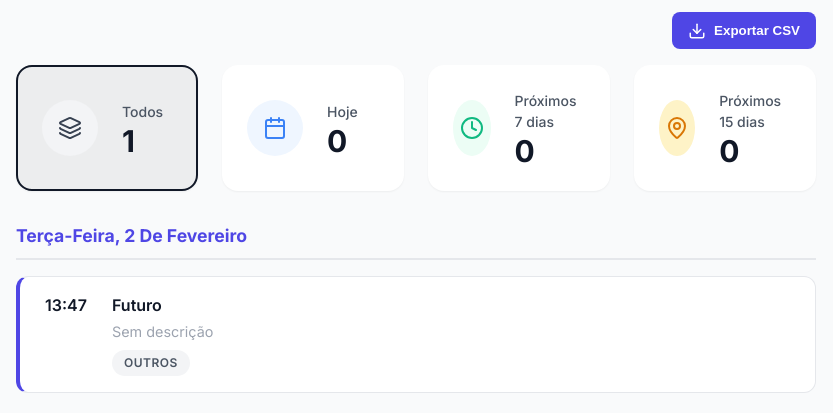
Test case: AgendaView Component › deve exibir mensagem de vazio e limpar filtros
Click the heading "Hoje" at x=342, y=111, box [327,101,358,122]
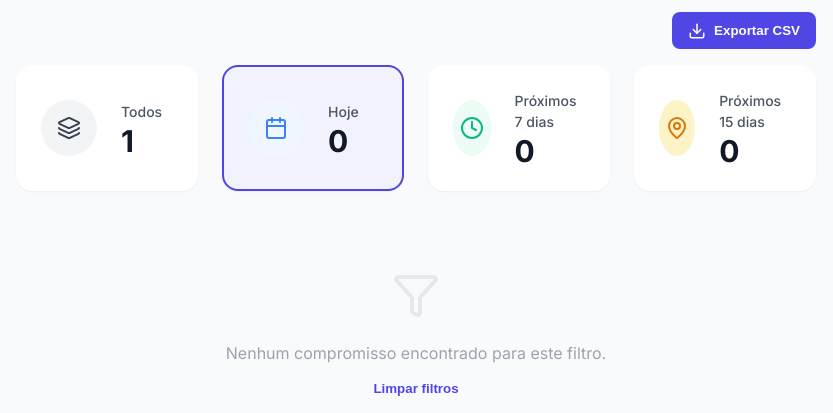
Expected: the text "Nenhum compromisso encontrado para este filtro." is shown, [226,343,606,363]
// Click Clear
Click the button "Limpar filtros" at x=416, y=389, box [373,381,459,396]
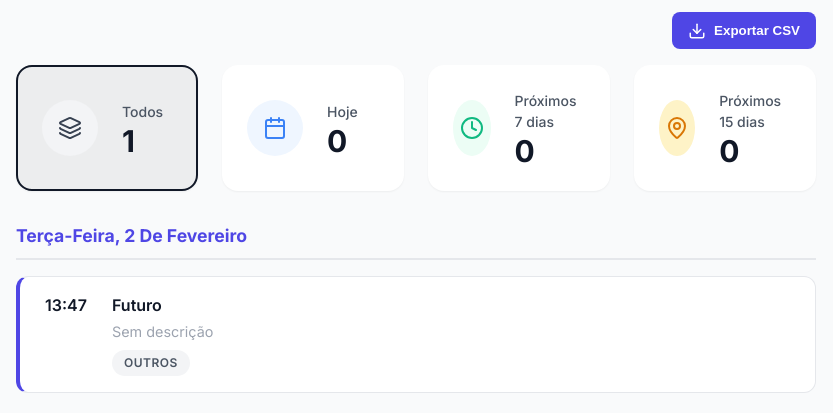
Expected: the heading "Futuro" is shown, [112,295,162,315]
